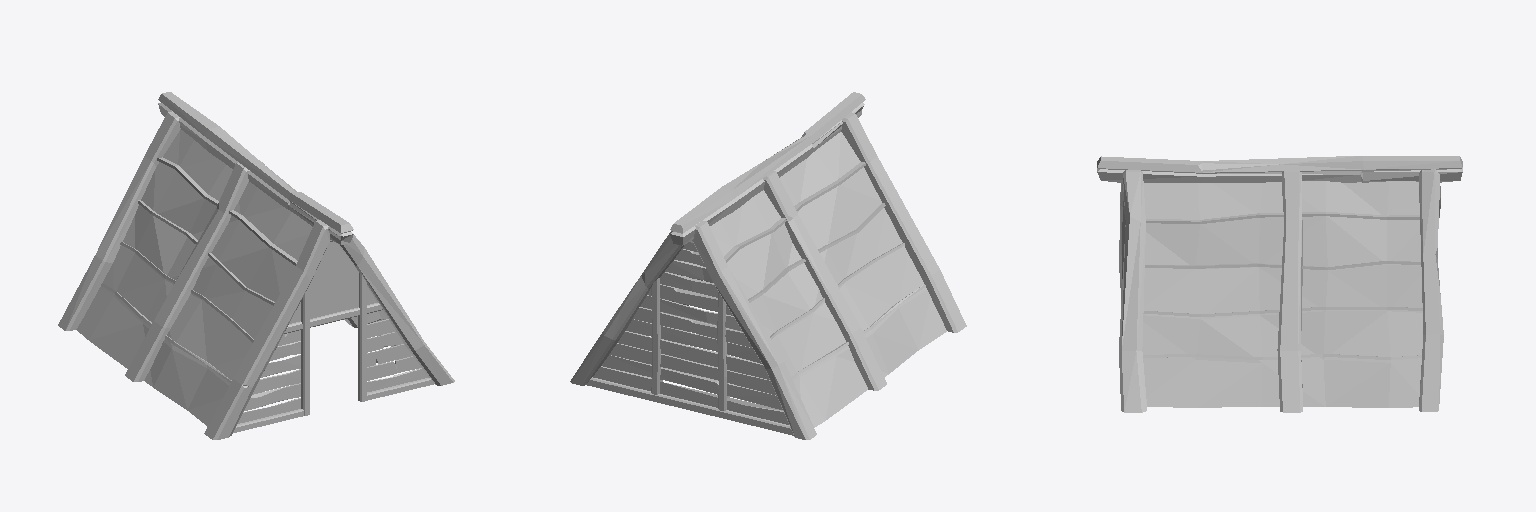
Rendered from Building_2_Wall_On_2.obj.
The picture shows the model from 3 angles: view 1: azimuth 30°, elevation 25°; view 2: azimuth 150°, elevation 25°; view 3: azimuth 270°, elevation 25°; orthographic projection.
Parts seen in each view (by area): view 1: Building_2_Wall_On_2; view 2: Building_2_Wall_On_2; view 3: Building_2_Wall_On_2.
Part boxes in pixels (x1,y1,x2,y2): Building_2_Wall_On_2: (58,92,454,439); Building_2_Wall_On_2: (570,92,966,439); Building_2_Wall_On_2: (1097,156,1462,412).
Bounding box in the file's own units: 6.63 × 5.1 × 8.65.